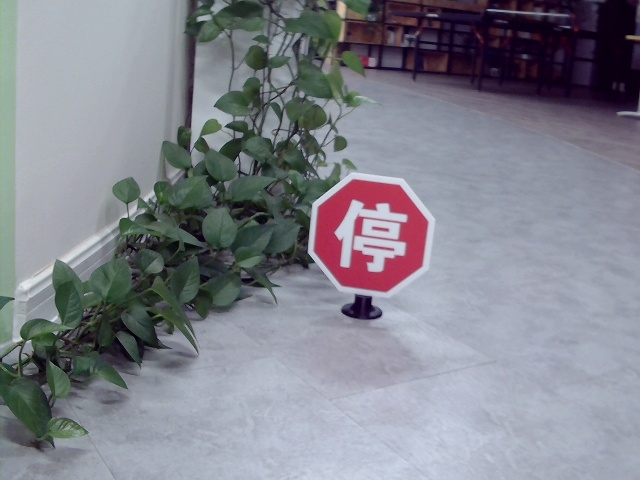stop: (330, 197, 407, 274)
